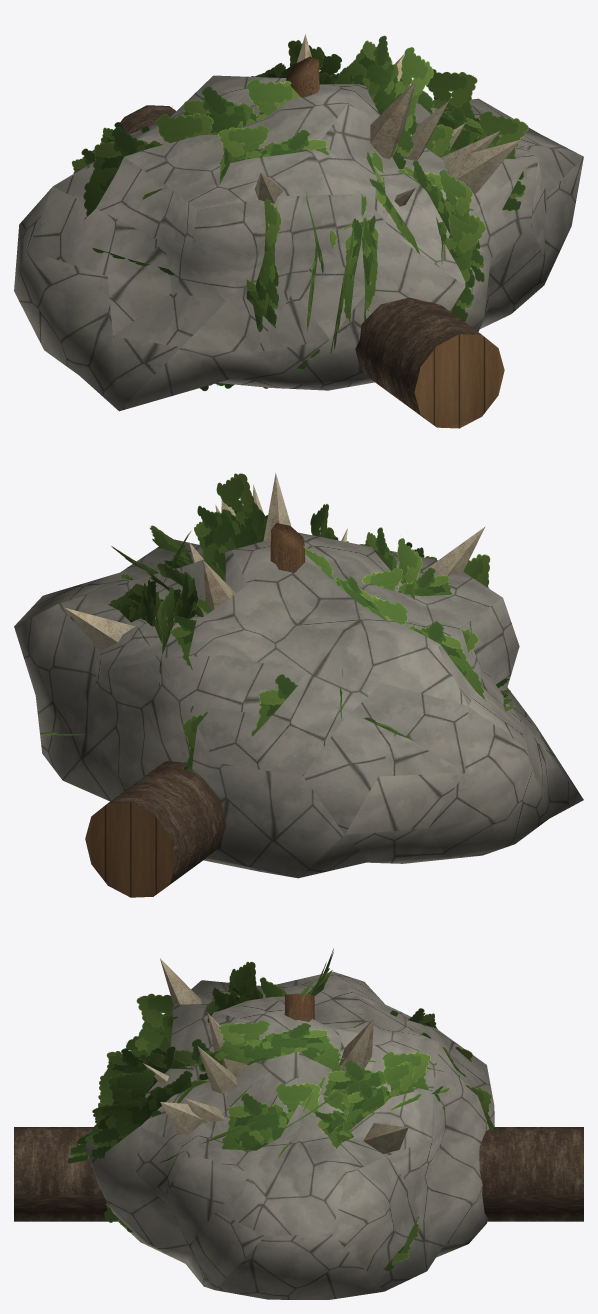
File: props.glb
3 renders of one model, top to bottom at view 1: azimuth 30°, elevation 25°; view 2: azimuth 150°, elevation 25°; view 3: azimuth 270°, elevation 25°, orthographic. The views are drawn at different scales.
Visible parts, largest first — view 1: ore-0, shrub-0, log-0, fence-post, shrub-1; view 2: ore-0, shrub-0, log-0, fence-post; view 3: ore-0, shrub-0, log-0, fence-post.
Boxes of the visible parts, x1=… form: ore-0: x1=14, y1=34, x2=583, y2=411; shrub-0: x1=72, y1=35, x2=528, y2=391; log-0: x1=120, y1=105, x2=504, y2=428; fence-post: x1=286, y1=56, x2=319, y2=97; shrub-1: x1=296, y1=169, x2=442, y2=370; ore-0: x1=14, y1=473, x2=583, y2=878; shrub-0: x1=40, y1=473, x2=514, y2=809; log-0: x1=85, y1=761, x2=226, y2=897; fence-post: x1=270, y1=523, x2=305, y2=572; ore-0: x1=85, y1=958, x2=494, y2=1299; shrub-0: x1=67, y1=948, x2=497, y2=1271; log-0: x1=14, y1=1127, x2=583, y2=1221; fence-post: x1=284, y1=993, x2=314, y2=1021.
Size of the model in its own units: 2.29 by 1.23 by 2.4.
8 materials, 7 textured.
